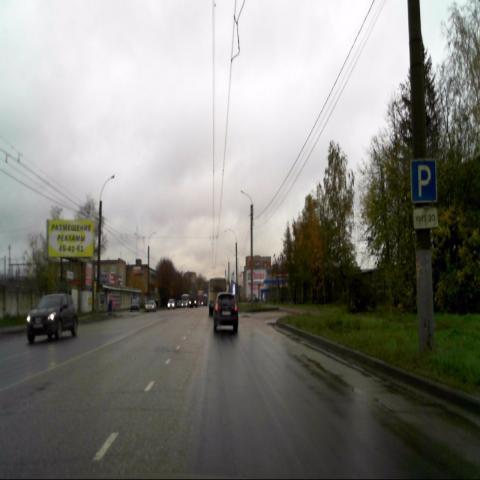8_8: (412, 208, 437, 229)
